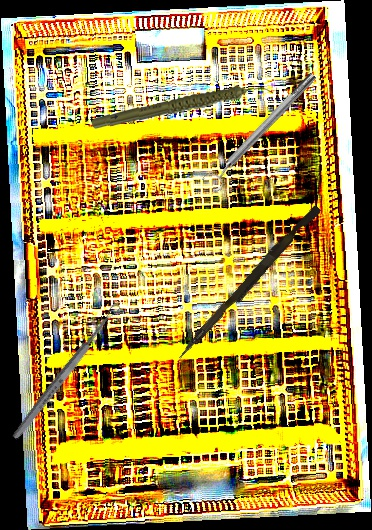Fixation Ring: (199, 67, 324, 195)
Handpiece: (91, 78, 273, 137)
Pusher: (176, 201, 322, 365)
Surgical Spoon: (10, 301, 123, 442)
